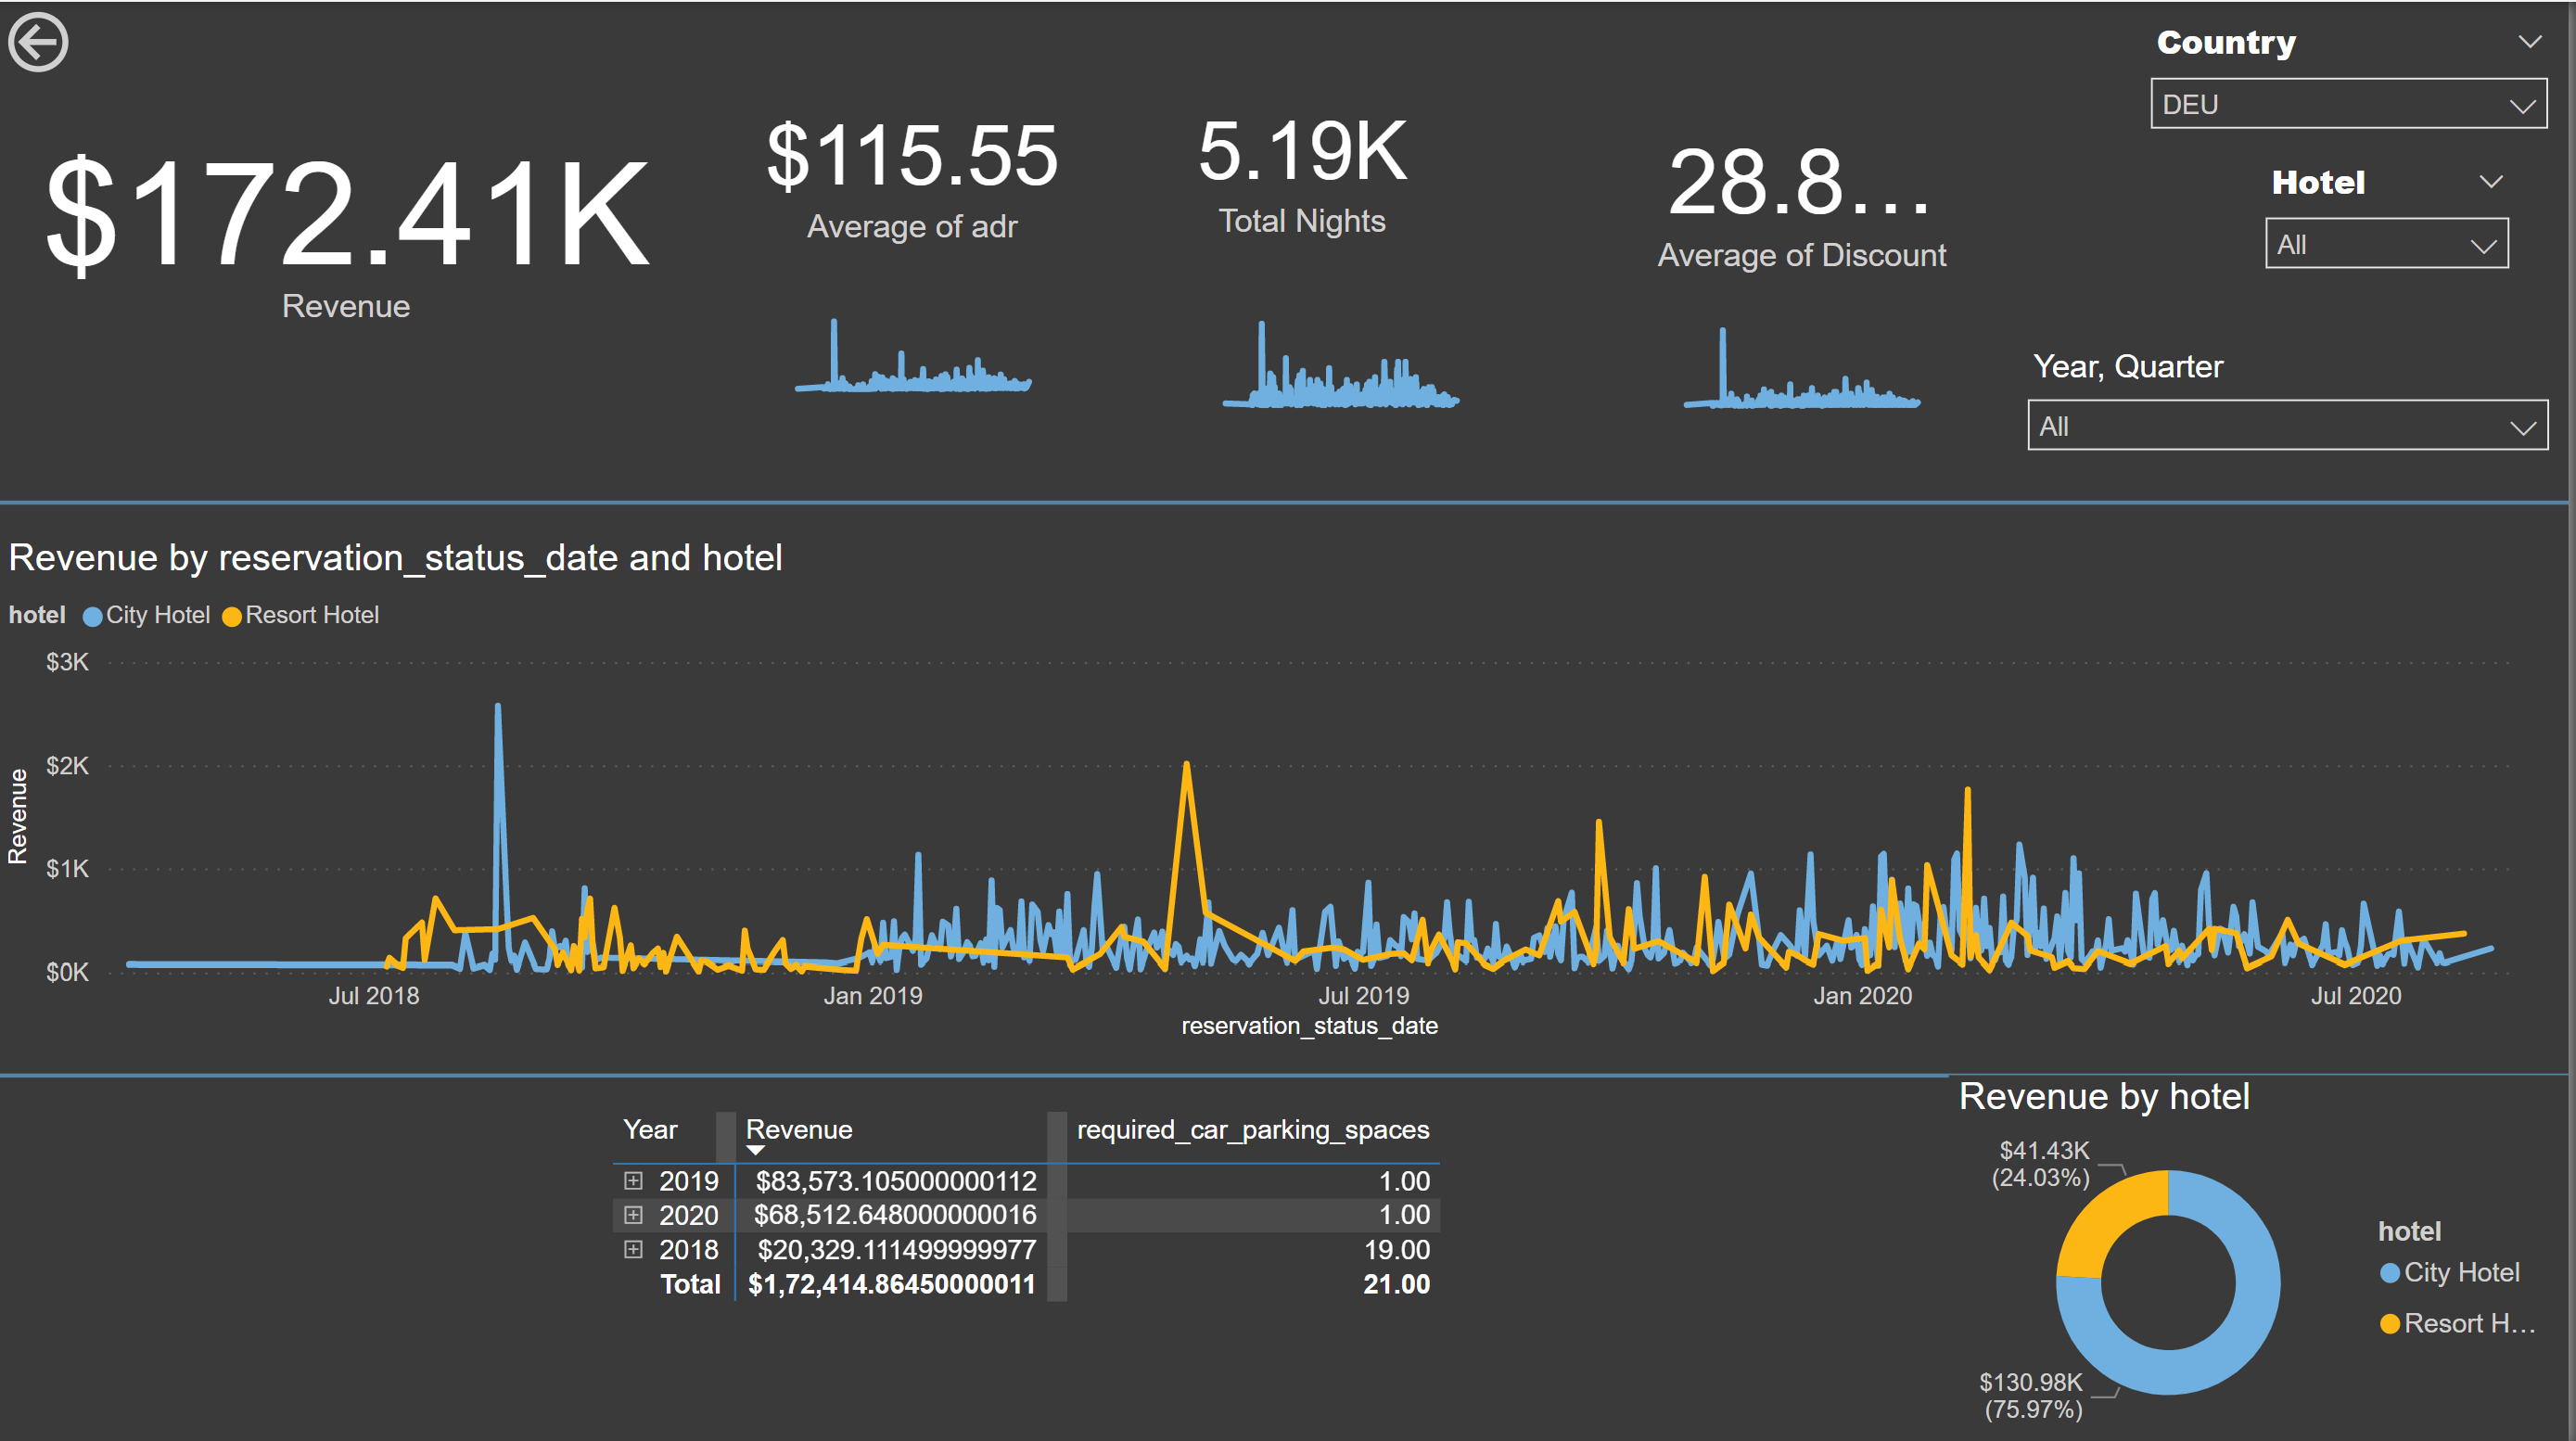

The page's visual inventory and layout, read from the dashboard file:
{"tool":"powerbi","page":{"name":"Page 1","canvas":[1280,720],"ordinal":0},"visuals":[{"type":"shape","box":[0,175.2,1280,147.4],"z":0},{"type":"shape","box":[0,393.4,1280,280.8],"z":1000},{"type":"card","fields":{"Values":["Sum(Query1.Revenue)"]},"box":[0,0,347,217],"z":2000},{"type":"actionButton","box":[0,0,100,40],"z":3000},{"type":"card","fields":{"Values":["Avg(Query1.adr)"]},"box":[358.6,22,193.8,123],"z":4000},{"type":"card","fields":{"Values":["Query1.Total Nights"]},"box":[558.2,19.7,183.4,123],"z":5000},{"type":"card","fields":{"Values":["Avg(Query1.Discount)"]},"box":[817,48.7,163.6,94],"z":6000},{"type":"lineChart","fields":{"Category":["Query1.reservation_status_date"],"Y":["Sum(Query1.Revenue)"],"Series":["Query1.hotel"]},"box":[0,265.7,1269.6,255.3],"z":7000},{"type":"slicer","fields":{"Values":["Query1.country"]},"box":[1061.8,3.5,218.2,68.5],"z":8000},{"type":"slicer","fields":{"Values":["Query1.hotel"]},"box":[1118.7,73.1,141.6,71.9],"z":9000},{"type":"lineChart","fields":{"Category":["Query1.reservation_status_date"],"Y":["Sum(Query1.adr)"]},"box":[383,133.5,145.1,66.1],"z":10000},{"type":"lineChart","fields":{"Category":["Query1.reservation_status_date"],"Y":["Query1.Total Nights"]},"box":[596.5,142.7,145.1,65],"z":11000},{"type":"lineChart","fields":{"Category":["Query1.reservation_status_date"],"Y":["Sum(Query1.Discount)"]},"box":[826.3,141.6,145.1,66.1],"z":12000},{"type":"donutChart","fields":{"Category":["Query1.hotel"],"Y":["Sum(Query1.Revenue)"]},"box":[971.3,533.8,308.7,185.7],"z":13000},{"type":"pivotTable","fields":{"Values":["Sum(Query1.Revenue)","Sum(Query1.required_car_parking_spaces)"],"Rows":["Query1.reservation_status_date.Variation.Date Hierarchy.Year","Query1.hotel"]},"box":[301.7,547.7,465.3,145.1],"z":14000},{"type":"slicer","fields":{"Values":["Query1.reservation_status_date.Variation.Date Hierarchy.Year","Query1.reservation_status_date.Variation.Date Hierarchy.Quarter"]},"box":[1000.3,167.1,279.7,58],"z":15000}]}

Visuals, with their boxes in screenshot pixels (x1, y1, x2, y2), scaled from the page's 1280x720 canvas onto the 2576x1441 screenshot:
shape: x1=0, y1=351, x2=2575, y2=645
shape: x1=0, y1=787, x2=2575, y2=1349
card - Sum(Query1.Revenue): x1=0, y1=0, x2=698, y2=434
actionButton: x1=0, y1=0, x2=201, y2=80
card - Avg(Query1.adr): x1=721, y1=44, x2=1112, y2=290
card - Query1.Total Nights: x1=1123, y1=40, x2=1493, y2=286
card - Avg(Query1.Discount): x1=1644, y1=97, x2=1973, y2=286
lineChart - Query1.reservation_status_date x Sum(Query1.Revenue): x1=0, y1=531, x2=2555, y2=1042
slicer - Query1.country: x1=2136, y1=7, x2=2575, y2=144
slicer - Query1.hotel: x1=2251, y1=147, x2=2536, y2=290
lineChart - Query1.reservation_status_date x Sum(Query1.adr): x1=771, y1=267, x2=1063, y2=400
lineChart - Query1.reservation_status_date x Query1.Total Nights: x1=1201, y1=286, x2=1493, y2=415
lineChart - Query1.reservation_status_date x Sum(Query1.Discount): x1=1663, y1=284, x2=1955, y2=415
donutChart - Query1.hotel x Sum(Query1.Revenue): x1=1955, y1=1068, x2=2575, y2=1440
pivotTable - Sum(Query1.Revenue) x Sum(Query1.required_car_parking_spaces): x1=607, y1=1096, x2=1544, y2=1386
slicer - Query1.reservation_status_date.Variation.Date Hierarchy.Year x Query1.reservation_status_date.Variation.Date Hierarchy.Quarter: x1=2013, y1=335, x2=2575, y2=451
